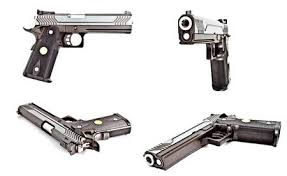gun: (21, 4, 136, 87), (141, 111, 282, 173), (16, 100, 132, 156), (174, 9, 238, 94)
